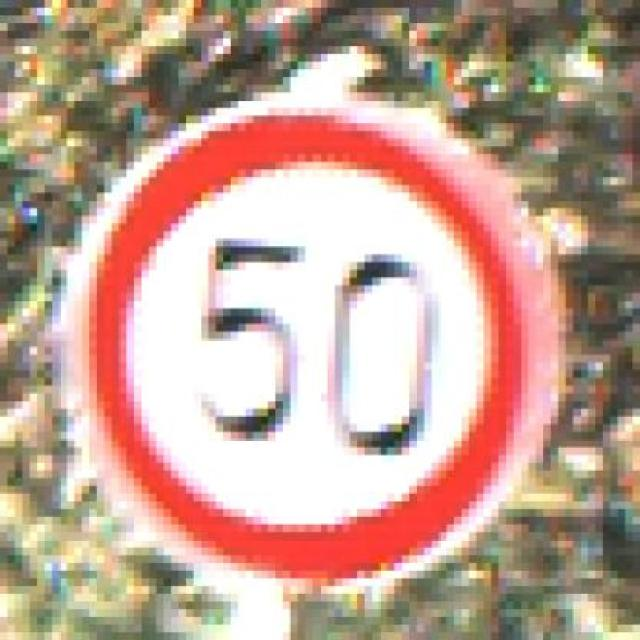50 mph speed limit: (59, 77, 581, 601)
